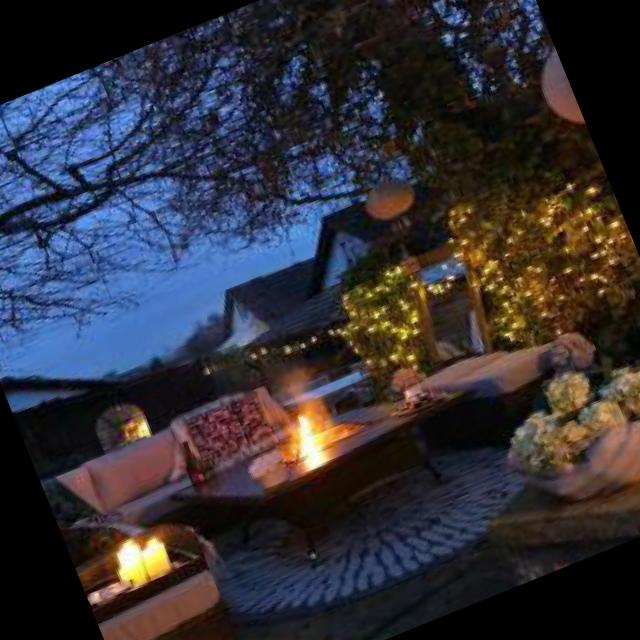fire: (262, 394, 348, 480), (104, 518, 174, 574)
